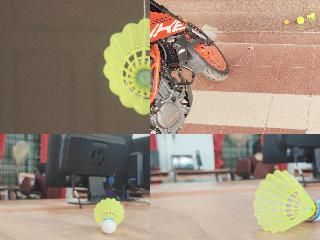shuttlecock: (102, 17, 149, 117), (252, 168, 319, 233), (94, 197, 125, 233), (307, 12, 315, 18)
